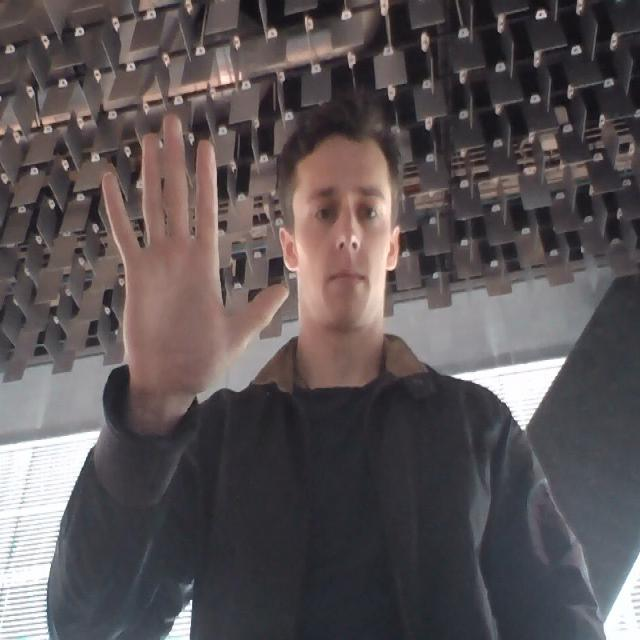backward: (88, 106, 289, 399)
